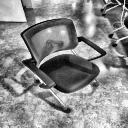chair_success: (16, 17, 108, 115)
